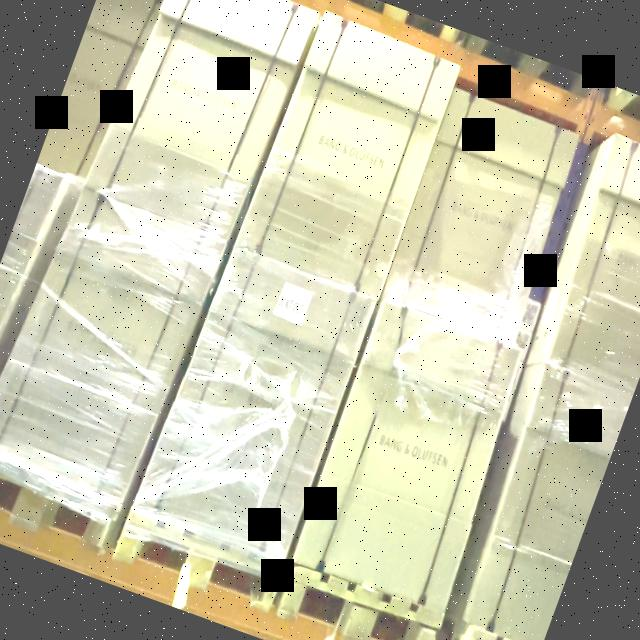box: (136, 248, 375, 556), (0, 179, 227, 502), (294, 308, 534, 610), (239, 14, 462, 298), (88, 0, 313, 238), (382, 90, 578, 338), (543, 141, 640, 381)
